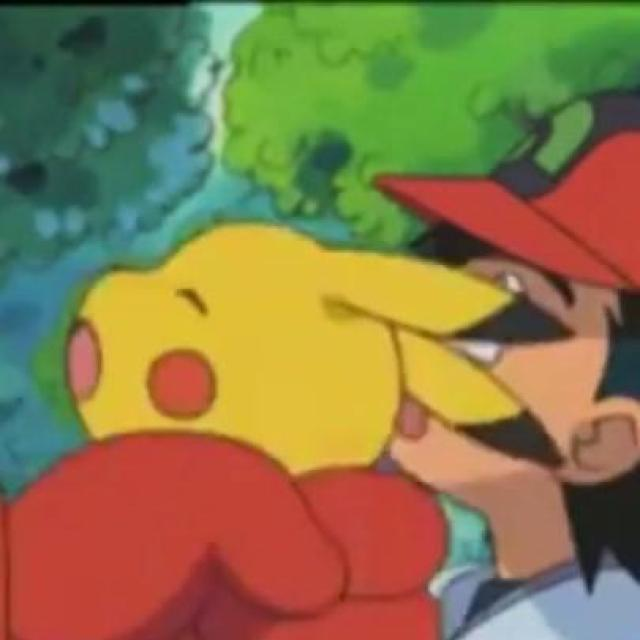pikachu: (59, 221, 593, 481)
